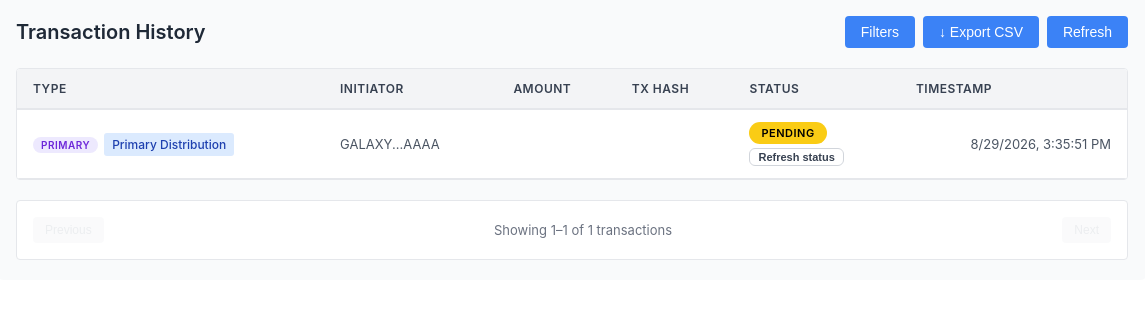
Test: TransactionHistory lifecycle status (#712) › refreshes a pending transaction's status and re-fetches history on success
Check: the text "Showing 1–1 of 1 transactions" is shown, box [494, 222, 672, 238]
Click the button "Refresh status". click: (797, 157)
box: [749, 148, 844, 166]
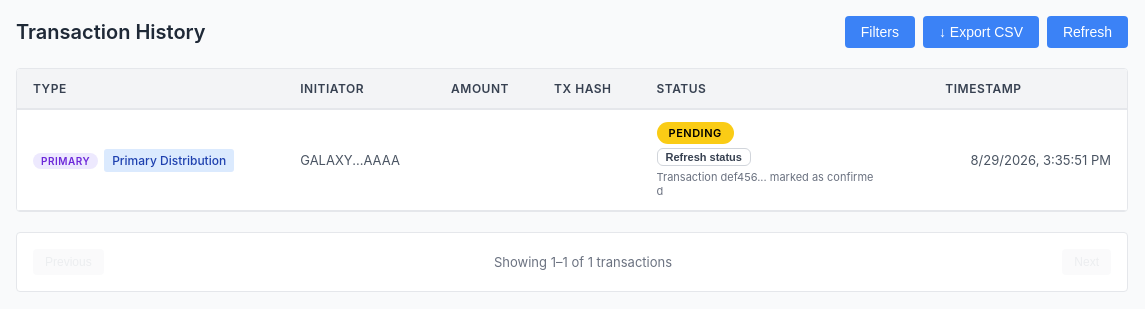
Check: the text "Transaction def456... marked as confirmed" is shown, box [656, 170, 876, 198]
